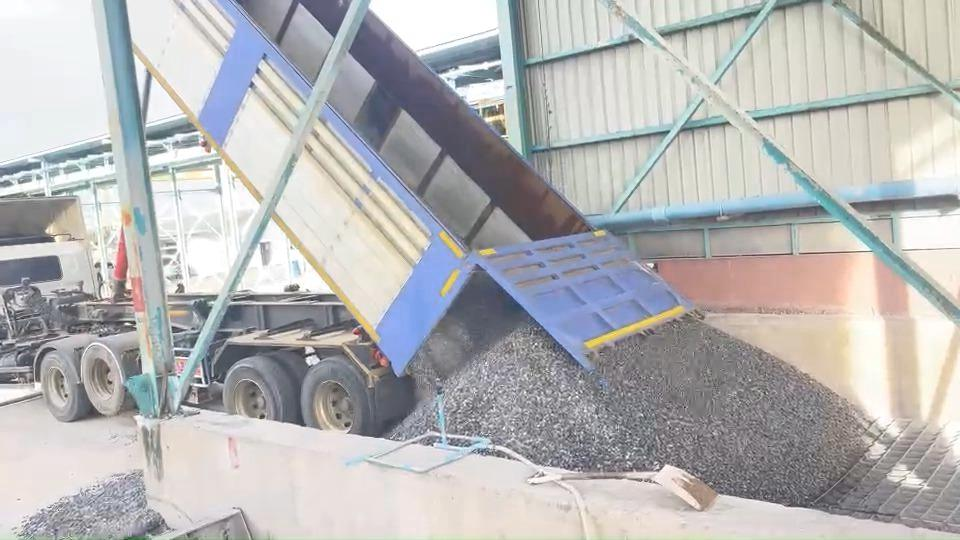gravel: (414, 297, 871, 504), (18, 470, 165, 538), (389, 401, 436, 439)
